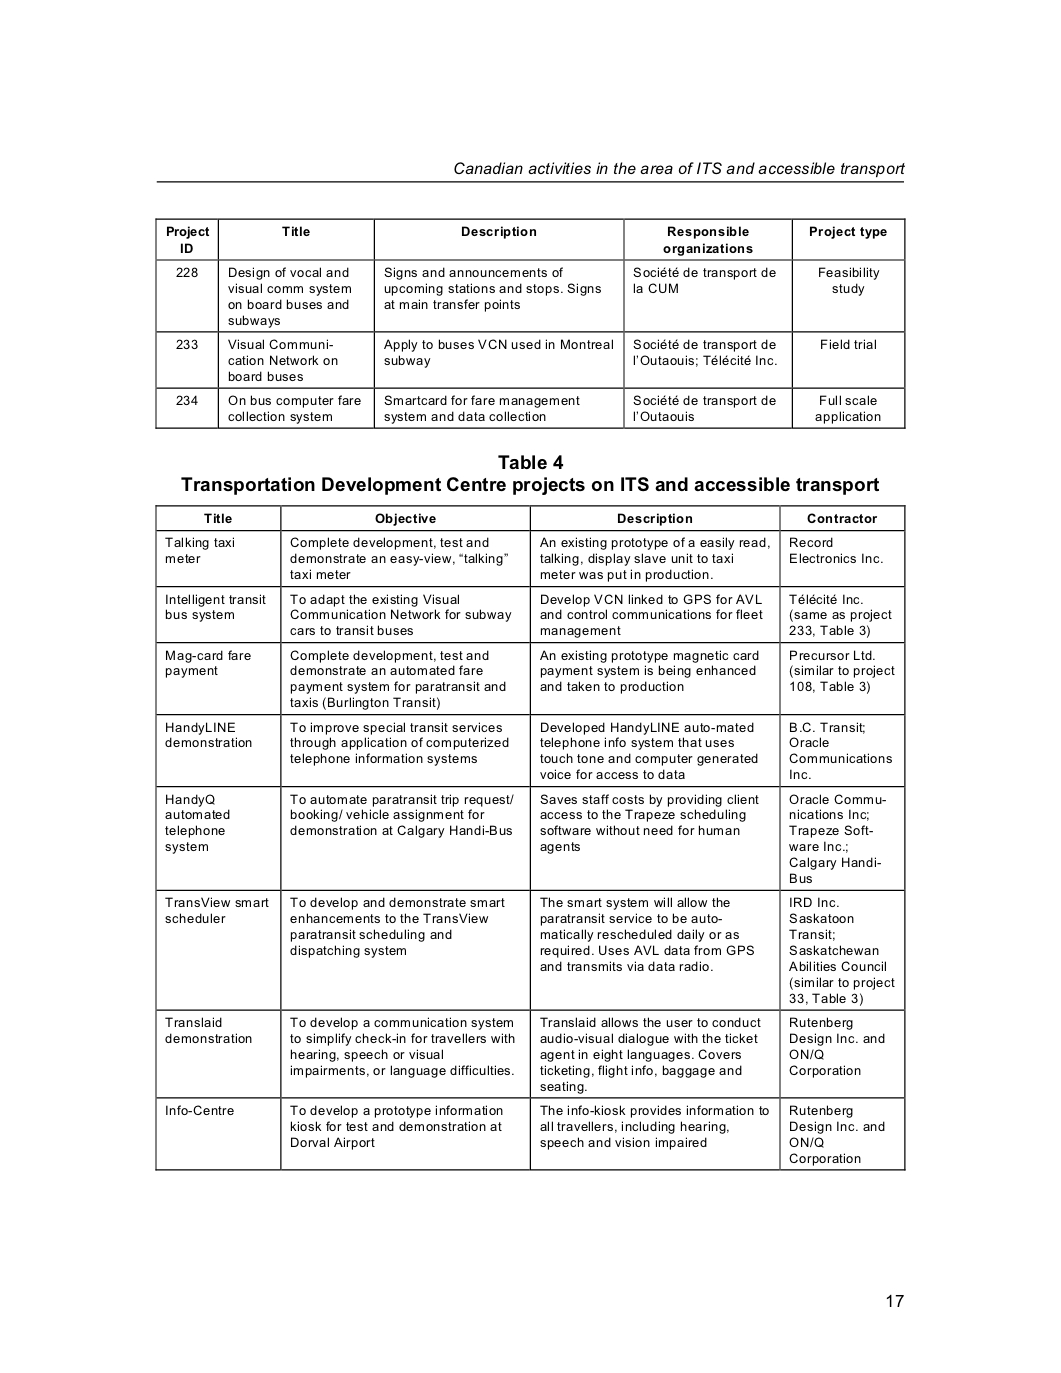Table: (155, 504, 905, 1171), (155, 217, 905, 429)
